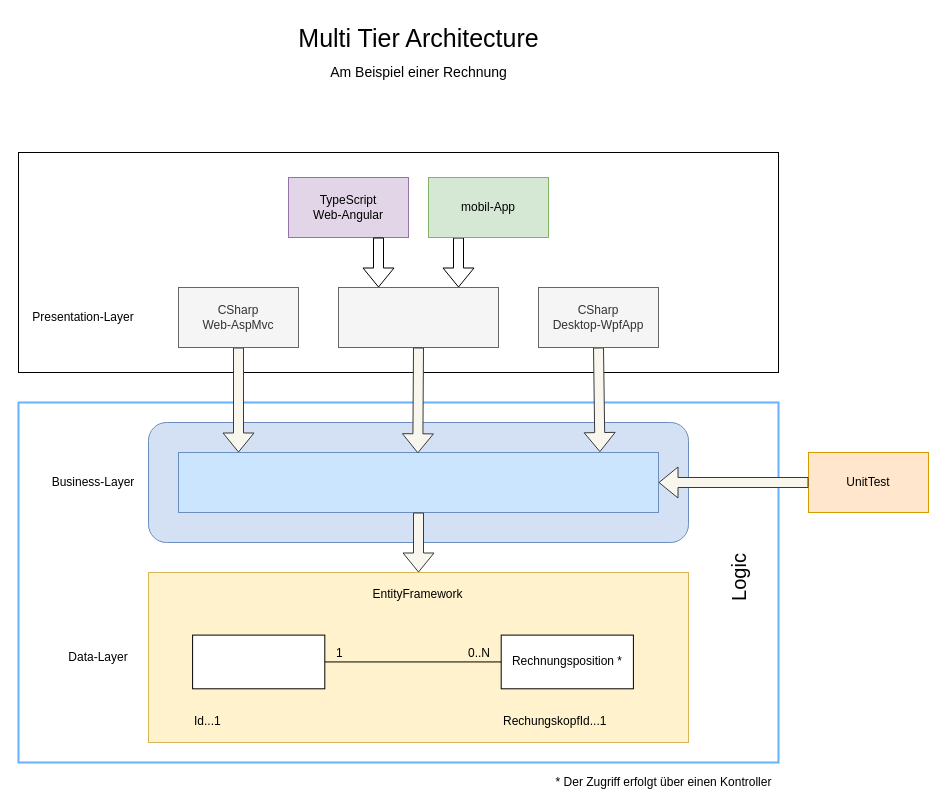
This 946x809 diagram has some shape labels left out. Each missing label, with the centre of its shape:
"CSharp REST-WebApi" belongs at (x=418, y=317).
"Rechnung*" belongs at (x=418, y=482).
"Rechnungskopf *" belongs at (x=258, y=661).
